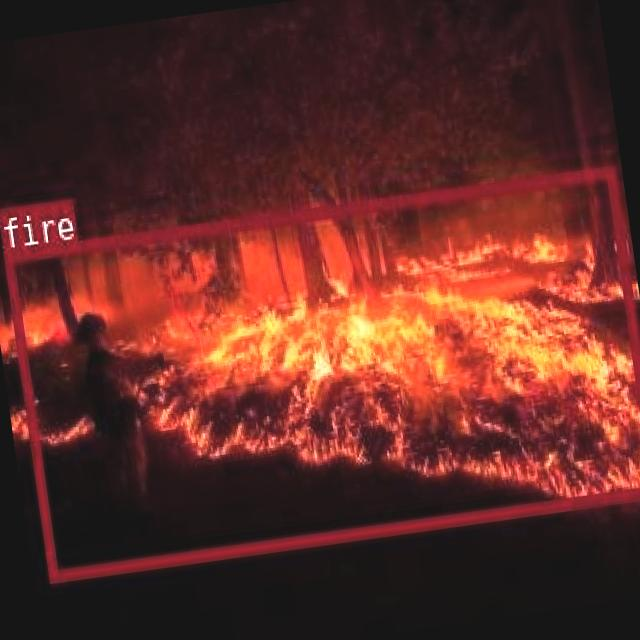fire: (2, 165, 640, 581)
